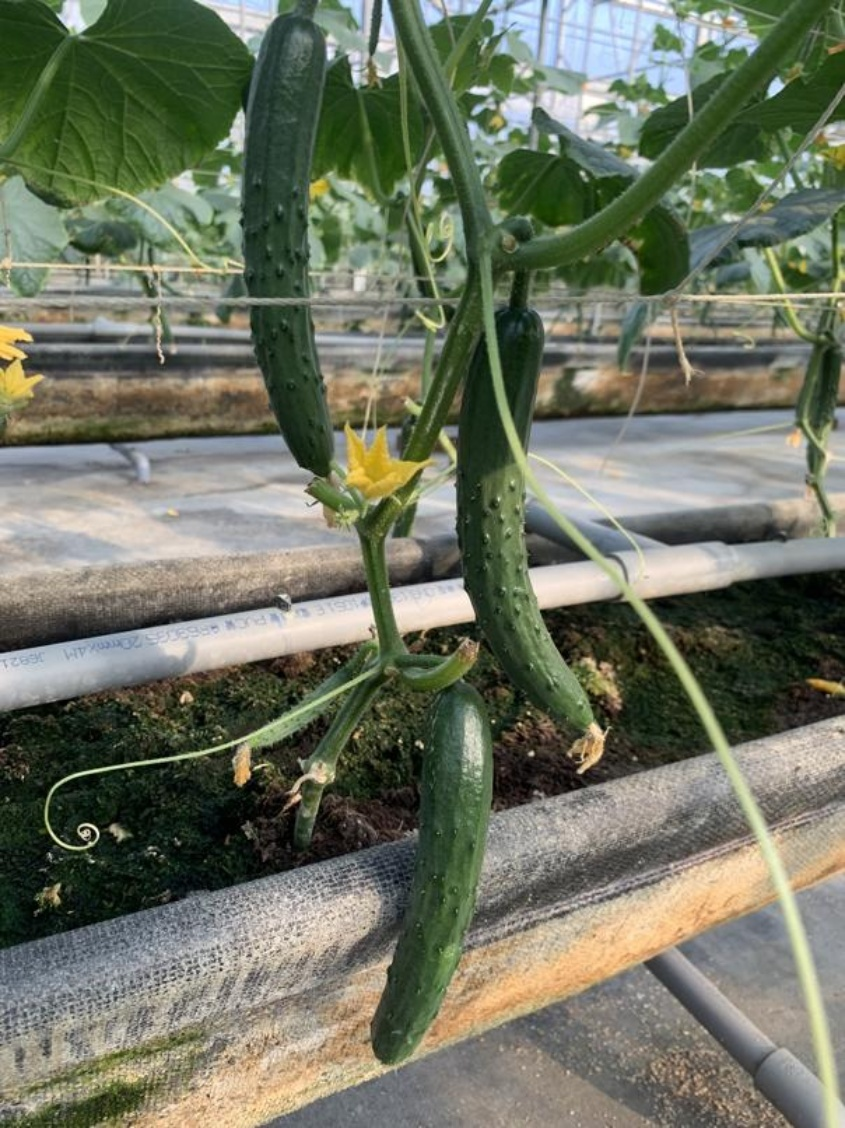mature: (455, 304, 594, 739), (361, 676, 499, 1067)
